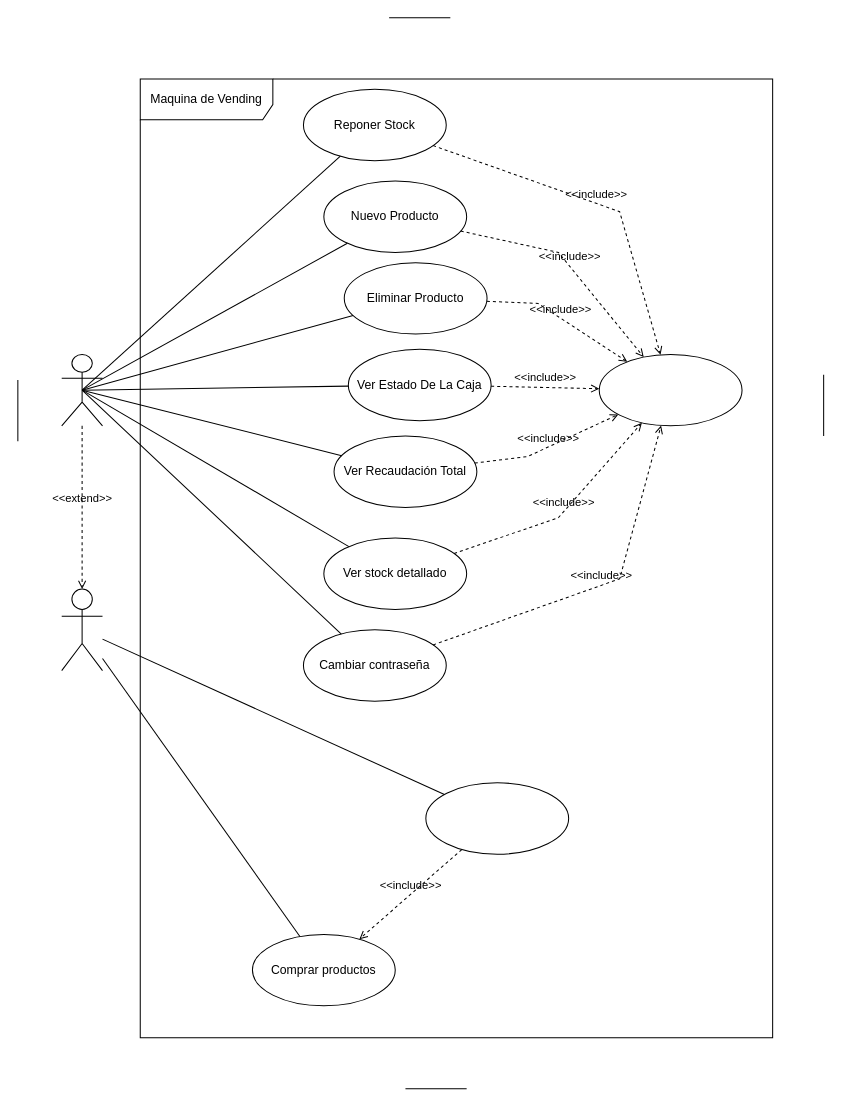
This 843x1108 diagram has some shape labels left out. The centre of each missing label's shape, as x and y in pixels:
Administrador: the point at 82,389
Cliente: the point at 82,629
Devolver Dinero: the point at 497,818
Modo Administrador (Poner Contraseña): the point at 670,389
